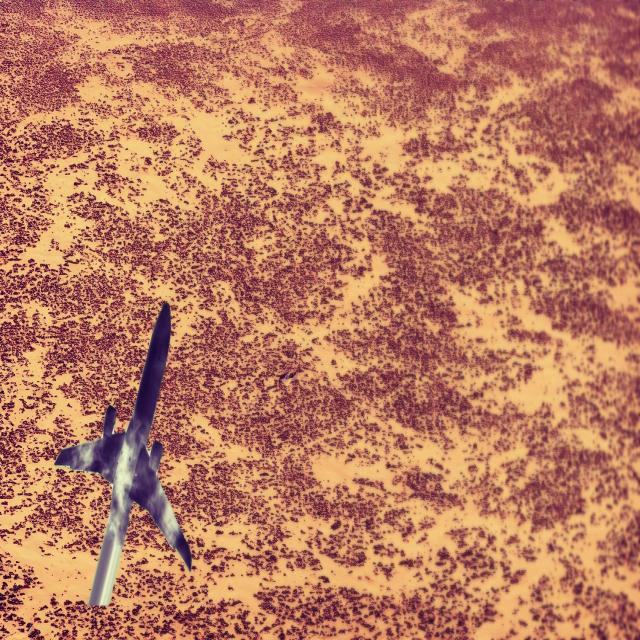airplane: (54, 300, 192, 608)
